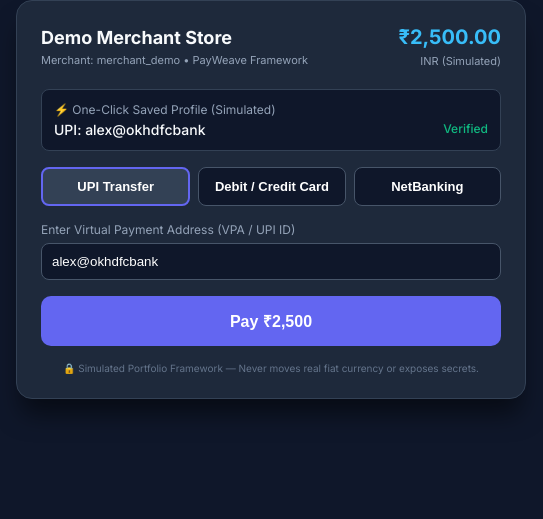
it: PayWeaveCheckout SDK Component › switches payment method to Card and validates 16-digit card number
# Switch to Card tab
Click the tab "Debit / Credit Card": (272, 186) [198,167,346,206]
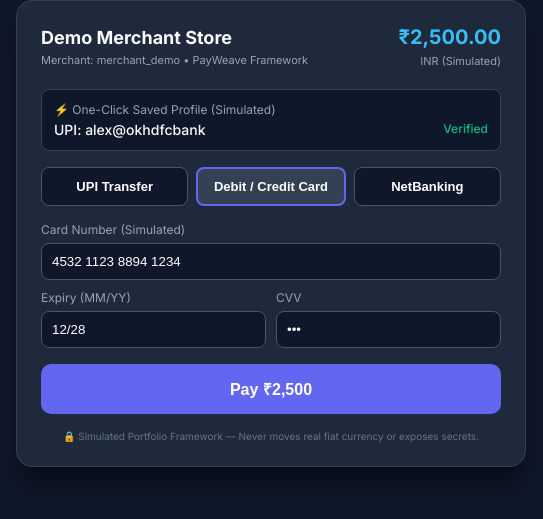
Now the field labelled "Card Number (Simulated)" is shown
# Enter short card number
Replace the text in the field labelled "Card Number (Simulated)" with "4111 2222 3333": (271, 262) [41,243,501,280]
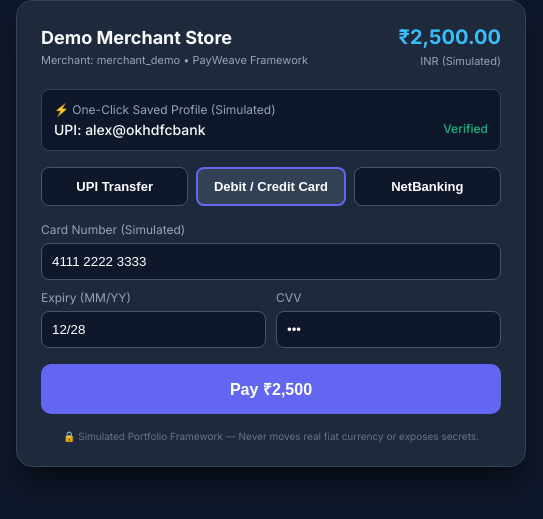
Click the button "Pay ₹2,500": (271, 389) [41,364,501,414]
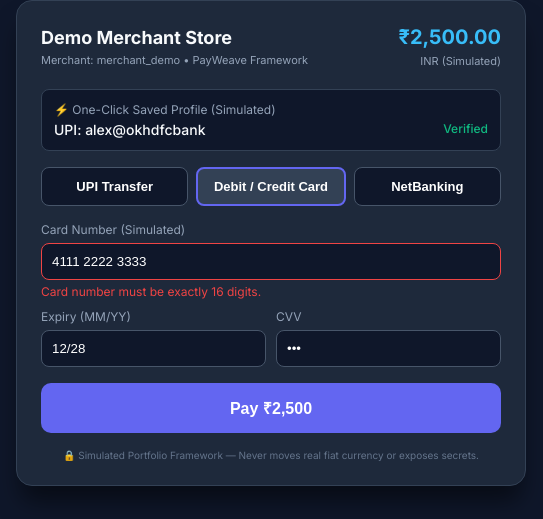
Now the message shows "Card number must be exactly 16 digits", box [41,284,261,299]
